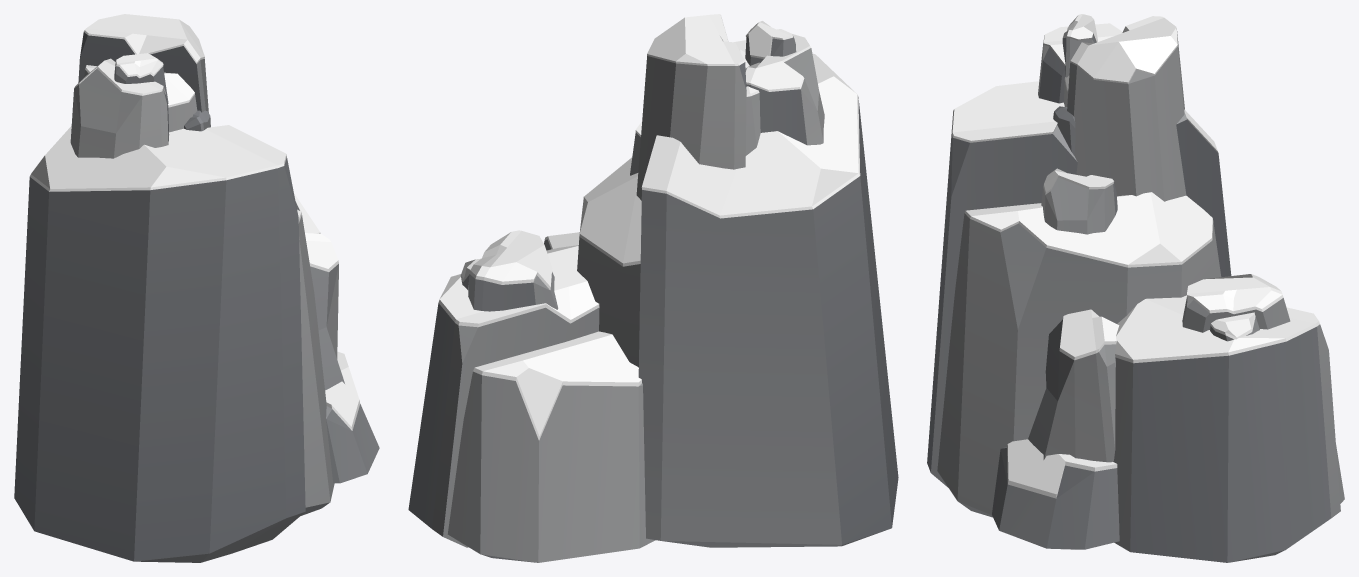
The model's file is rock_meduim.glb.
3 renders of one model, left to right at view 1: azimuth 30°, elevation 25°; view 2: azimuth 150°, elevation 25°; view 3: azimuth 270°, elevation 25°, orthographic. The views are drawn at different scales.
Parts seen in each view (by area): view 1: Stone_Huge_Variant_5; view 2: Stone_Huge_Variant_5; view 3: Stone_Huge_Variant_5.
Part boxes in pixels (x1,y1,x2,y2): Stone_Huge_Variant_5: (14,14,379,562); Stone_Huge_Variant_5: (408,14,898,562); Stone_Huge_Variant_5: (927,14,1344,562).
Size of the model in its own units: 3.4 by 4.22 by 3.53.
Materials: 1 (1 with a texture image).
